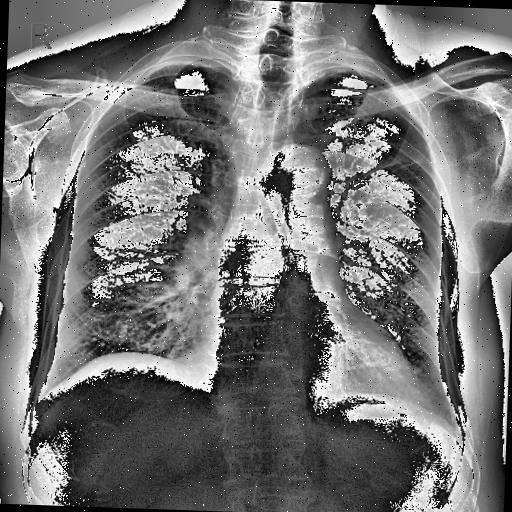0- Aortic enlargement: (270, 149, 332, 222), (263, 141, 333, 201), (268, 142, 326, 196)
11- Pleural thickening: (140, 53, 230, 81), (302, 58, 380, 84)
13- Pulmonary fibrosis: (350, 150, 432, 192), (350, 149, 426, 190), (350, 154, 424, 186)
3- Cardiomegaly: (174, 322, 418, 416), (202, 324, 416, 404)
5- ILD: (320, 228, 444, 381), (66, 293, 167, 365)
